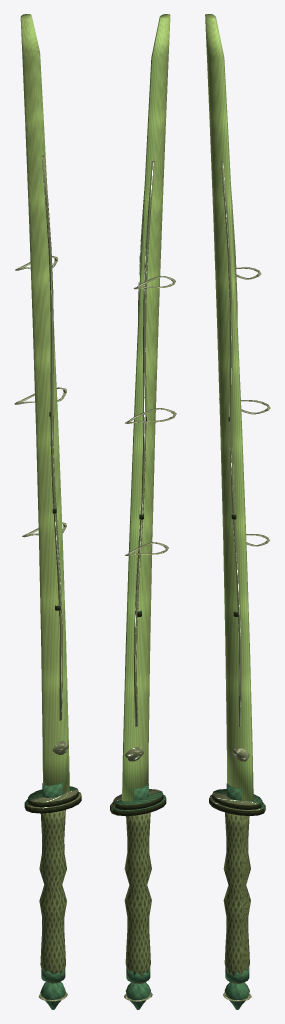
Rendered from sword_06_mistwalker_bamboo.glb.
The picture shows the model from 3 angles, left to right: view 1: azimuth 30°, elevation 25°; view 2: azimuth 210°, elevation 25°; view 3: azimuth 330°, elevation 25°; orthographic projection.
Parts seen in each view (by area): view 1: Blade_MistwalkerBambooKatana, Grip_BambooSilkWrap, Inlay_MistWisps, Tsuba_BambooWeaveRings, Ferrule_BambooJadeFittings, Pommel_BambooRingCap, Halo_MistCloud; view 2: Blade_MistwalkerBambooKatana, Grip_BambooSilkWrap, Inlay_MistWisps, Tsuba_BambooWeaveRings, Halo_MistCloud, Pommel_BambooRingCap, Ferrule_BambooJadeFittings, Core_MistLantern; view 3: Blade_MistwalkerBambooKatana, Grip_BambooSilkWrap, Inlay_MistWisps, Tsuba_BambooWeaveRings, Pommel_BambooRingCap, Ferrule_BambooJadeFittings, Halo_MistCloud, Core_MistLantern.
Part boxes in pixels (<box>): Blade_MistwalkerBambooKatana: <box>20,14,69,794</box>; Grip_BambooSilkWrap: <box>39,809,66,983</box>; Inlay_MistWisps: <box>42,155,62,720</box>; Tsuba_BambooWeaveRings: <box>24,786,81,813</box>; Ferrule_BambooJadeFittings: <box>41,782,65,982</box>; Pommel_BambooRingCap: <box>38,982,67,1009</box>; Halo_MistCloud: <box>14,256,66,537</box>; Blade_MistwalkerBambooKatana: <box>122,14,170,801</box>; Grip_BambooSilkWrap: <box>124,812,151,983</box>; Inlay_MistWisps: <box>134,161,154,726</box>; Tsuba_BambooWeaveRings: <box>110,789,166,816</box>; Halo_MistCloud: <box>125,276,176,555</box>; Pommel_BambooRingCap: <box>124,982,152,1009</box>; Ferrule_BambooJadeFittings: <box>126,783,150,982</box>; Core_MistLantern: <box>125,747,143,761</box>; Blade_MistwalkerBambooKatana: <box>205,14,253,801</box>; Grip_BambooSilkWrap: <box>223,812,250,983</box>; Inlay_MistWisps: <box>221,161,241,726</box>; Tsuba_BambooWeaveRings: <box>209,789,265,815</box>; Pommel_BambooRingCap: <box>223,982,251,1009</box>; Ferrule_BambooJadeFittings: <box>225,783,249,982</box>; Halo_MistCloud: <box>219,267,270,546</box>; Core_MistLantern: <box>231,747,250,761</box>.
Size of the model in its own units: 0.1621 by 2.6 by 0.1152.
Materials: 1 (1 with a texture image).
